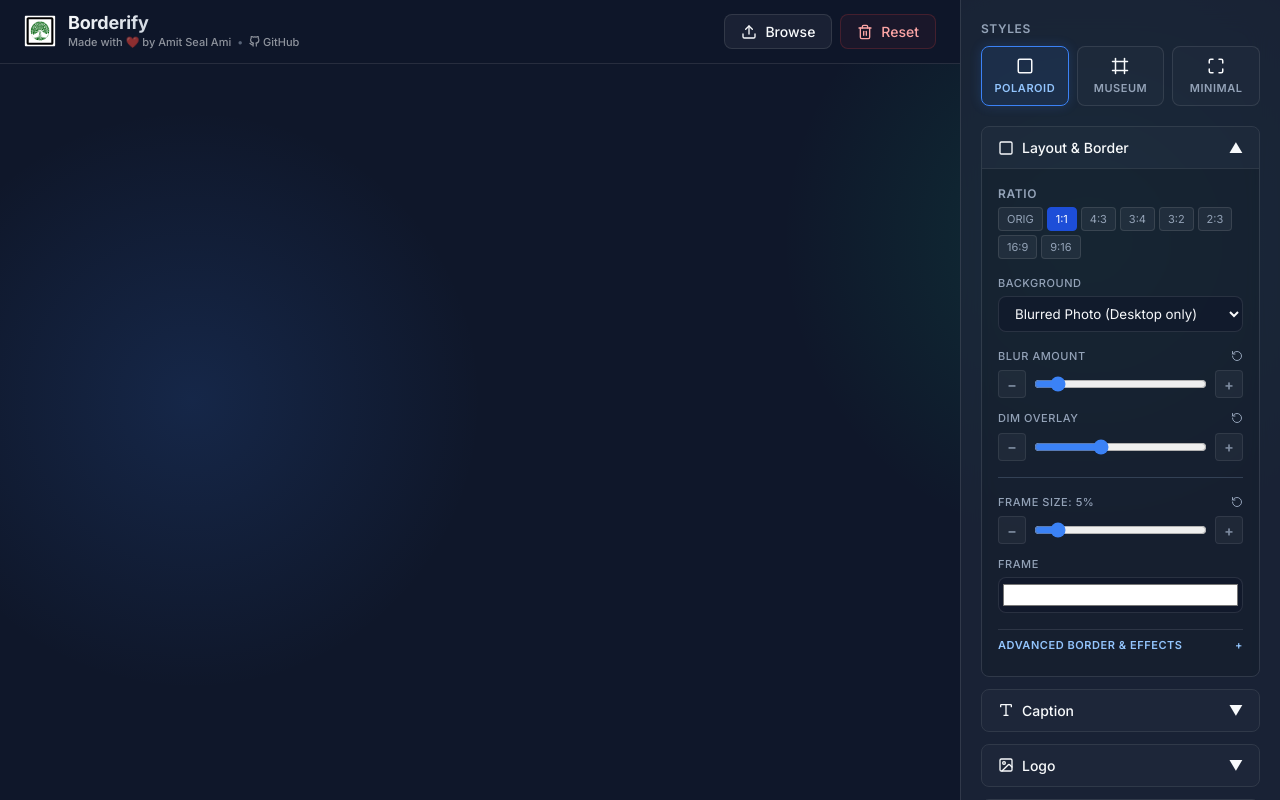
Scenario: App Layout and UI components › clears all photos when clicking the reset button
Expected: the text "No Photos Loaded" is not shown
Click the button titled "Clear All Photos" at (888, 32), box left=840, top=14, right=936, bottom=49
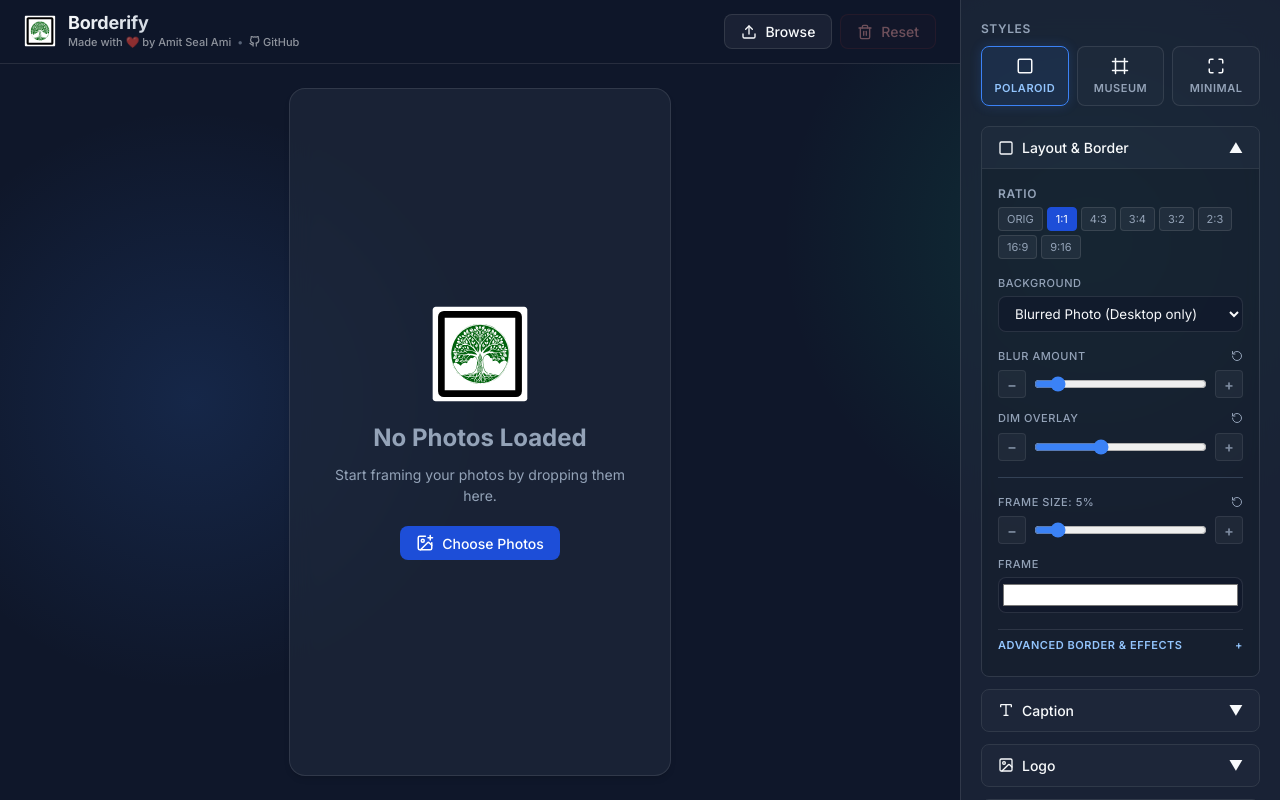
Now the heading "No Photos Loaded" is shown, box left=373, top=420, right=587, bottom=456
